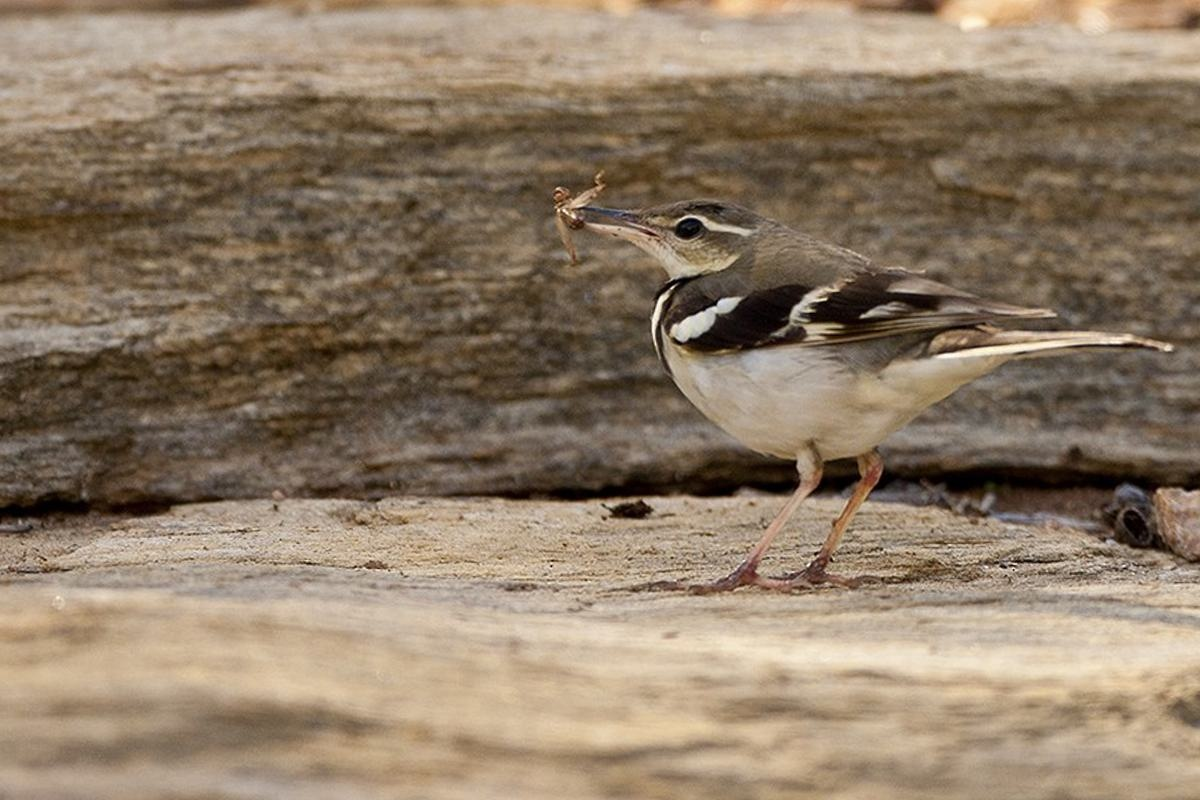wagtail: (538, 153, 1151, 597)
